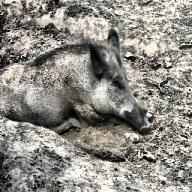boar: (0, 28, 153, 136)
